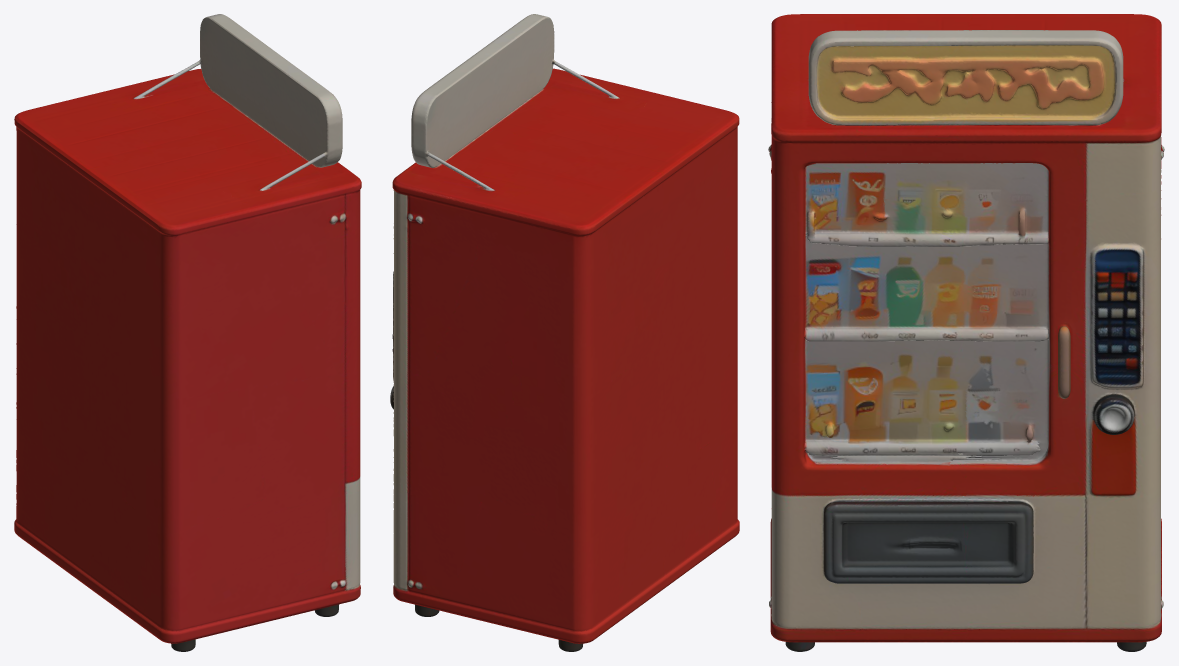
Rendered from vending_machine_snacks.glb.
3 views of the same model, side by side, from view 1: azimuth 30°, elevation 25°; view 2: azimuth 150°, elevation 25°; view 3: azimuth 270°, elevation 25° (orthographic). The views are drawn at different scales.
Parts seen in each view (by area): view 1: tripo_node_c40f4b07-274c-4c87-8ed5-4ba540a764bf; view 2: tripo_node_c40f4b07-274c-4c87-8ed5-4ba540a764bf; view 3: tripo_node_c40f4b07-274c-4c87-8ed5-4ba540a764bf.
Part boxes in pixels (bbox=[...]): tripo_node_c40f4b07-274c-4c87-8ed5-4ba540a764bf: bbox=[14, 14, 361, 651]; tripo_node_c40f4b07-274c-4c87-8ed5-4ba540a764bf: bbox=[390, 14, 739, 651]; tripo_node_c40f4b07-274c-4c87-8ed5-4ba540a764bf: bbox=[768, 14, 1164, 651].
Size of the model in its own units: 0.4345 by 1 by 0.5788.
1 material, 1 textured.
